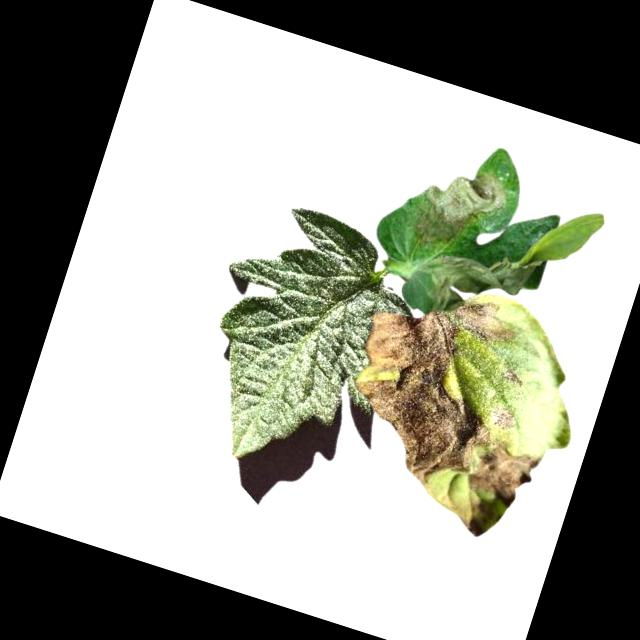Late_blight: (323, 266, 523, 499), (415, 227, 543, 337), (407, 154, 515, 265), (463, 433, 544, 513), (486, 402, 518, 435), (500, 366, 524, 391)
healthy: (175, 192, 429, 494)
